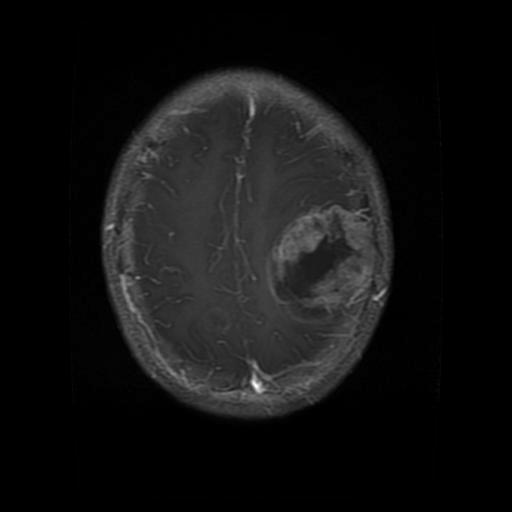Tumour-Glioma: (278, 206, 384, 309)
